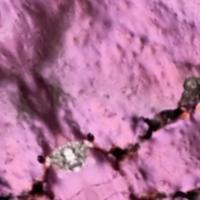crack: (0, 89, 199, 199)
